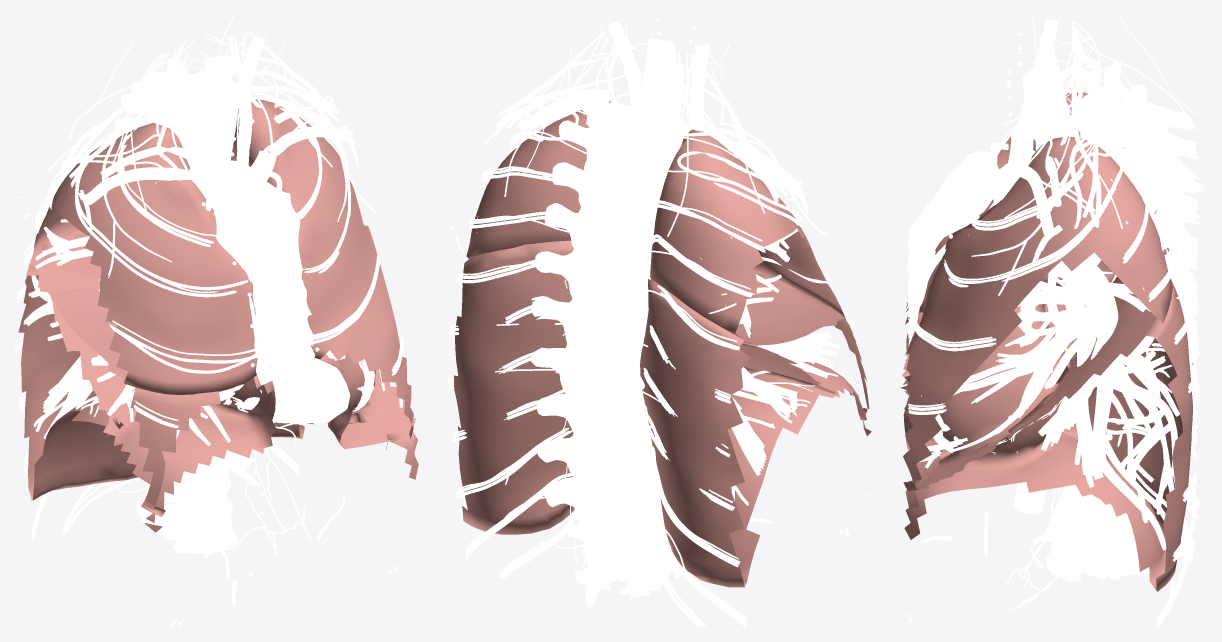
The model's file is mediastinum.glb.
3 renders of one model, left to right at view 1: azimuth 30°, elevation 25°; view 2: azimuth 150°, elevation 25°; view 3: azimuth 270°, elevation 25°, orthographic. The views are drawn at different scales.
Parts seen in each view (by area): view 1: Superior lobe of right lung, Superior lobe of left lung, Middle lobe of right lung, Inferior lobe of right lung, Manubrium of sternum, Body of sternum, Right ventricle, Right superior intercostal vein.001, Vertebra T12, Trachea, Inferior lobe of left lung, Left common carotid artery.001 (+22 smaller); view 2: Inferior lobe of right lung, Inferior lobe of left lung, Superior lobe of right lung, Superior lobe of left lung, Middle lobe of right lung, Vertebra T7, Vertebra T1, Vertebra T10, Right superior intercostal vein.001, Vertebra T9, Vertebra T6, Vertebra T5 (+19 smaller); view 3: Superior lobe of left lung, Inferior lobe of left lung, Manubrium of sternum, Left superior intercostal vein.001, Vertebra T12, Vertebra T1, Vertebra T2, Posterior intercostal arteries.l.001, Intercostal nerves.l.001, Left pulmonary artery.001, Vertebra T3, Vertebra T11 (+38 smaller).
Part boxes in pixels (box(x1,y1,x2,y2)): Superior lobe of right lung: box(29, 123, 257, 394); Superior lobe of left lung: box(230, 99, 413, 449); Middle lobe of right lung: box(48, 289, 276, 516); Inferior lobe of right lung: box(18, 228, 162, 532); Manubrium of sternum: box(214, 181, 302, 289); Body of sternum: box(252, 275, 315, 385); Right ventricle: box(234, 350, 350, 422); Right superior intercostal vein.001: box(15, 123, 261, 536); Vertebra T12: box(136, 500, 237, 554); Trachea: box(195, 81, 240, 198); Inferior lobe of left lung: box(271, 369, 418, 479); Left common carotid artery.001: box(236, 36, 264, 171); Inferior lobe of right lung: box(640, 279, 871, 587); Inferior lobe of left lung: box(454, 240, 574, 534); Superior lobe of right lung: box(650, 129, 845, 344); Superior lobe of left lung: box(466, 101, 610, 259); Middle lobe of right lung: box(735, 273, 869, 420); Vertebra T7: box(531, 330, 644, 416); Vertebra T1: box(569, 88, 685, 173); Vertebra T10: box(542, 456, 660, 568); Right superior intercostal vein.001: box(641, 151, 855, 627); Vertebra T9: box(537, 418, 652, 505); Vertebra T6: box(531, 294, 642, 360); Vertebra T5: box(535, 249, 648, 317); Superior lobe of left lung: box(903, 136, 1172, 491); Inferior lobe of left lung: box(904, 276, 1192, 591); Manubrium of sternum: box(910, 151, 998, 250); Left superior intercostal vein.001: box(908, 152, 1196, 623); Vertebra T12: box(1046, 518, 1149, 581); Vertebra T1: box(1071, 61, 1193, 138); Vertebra T2: box(1080, 84, 1198, 165); Posterior intercostal arteries.l.001: box(908, 188, 1196, 627); Intercostal nerves.l.001: box(908, 125, 1197, 619); Left pulmonary artery.001: box(1058, 260, 1118, 429); Vertebra T3: box(1119, 126, 1206, 193); Vertebra T11: box(1062, 484, 1194, 561).
Bounding box in the file's own units: 0.2026 × 0.3467 × 0.1819.
